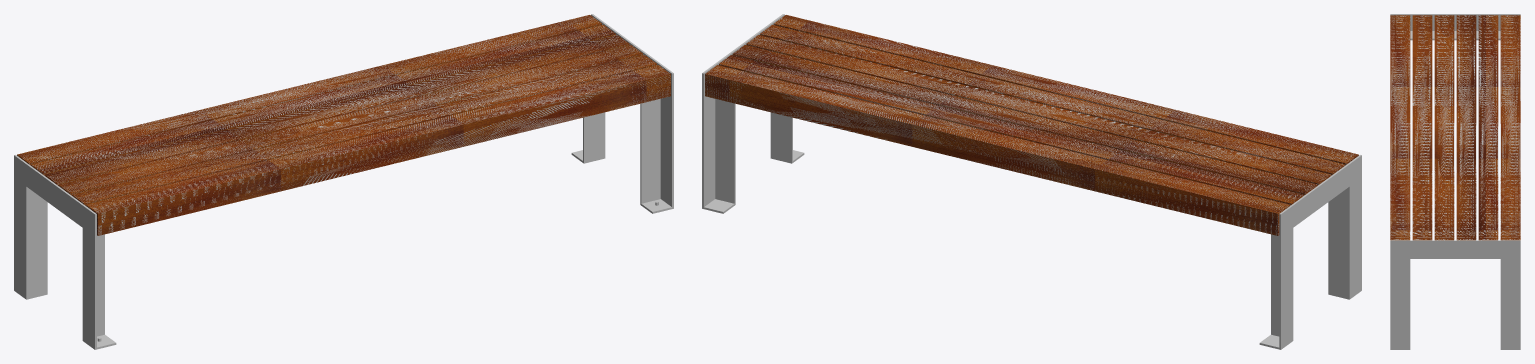
3 renders of one model, left to right at view 1: azimuth 30°, elevation 25°; view 2: azimuth 150°, elevation 25°; view 3: azimuth 270°, elevation 25°, orthographic. The views are drawn at different scales.
Parts seen in each view (by area): view 1: mesh4_mesh4-geometry, mesh9_mesh9-geometry, mesh3_mesh3-geometry, mesh8_mesh8-geometry, mesh5_mesh5-geometry, mesh1_mesh1-geometry, mesh6_mesh6-geometry, mesh11_mesh11-geometry; view 2: mesh8_mesh8-geometry, mesh9_mesh9-geometry, mesh4_mesh4-geometry, mesh1_mesh1-geometry, mesh6_mesh6-geometry, mesh3_mesh3-geometry, mesh5_mesh5-geometry, mesh11_mesh11-geometry; view 3: mesh11_mesh11-geometry, mesh4_mesh4-geometry, mesh8_mesh8-geometry, mesh1_mesh1-geometry, mesh3_mesh3-geometry, mesh5_mesh5-geometry, mesh6_mesh6-geometry, mesh9_mesh9-geometry.
Boxes of the visible parts, x1,y1,x2,y2 form: mesh4_mesh4-geometry: (85,65,670,235); mesh9_mesh9-geometry: (14,155,116,349); mesh3_mesh3-geometry: (44,35,629,185); mesh8_mesh8-geometry: (17,15,602,165); mesh5_mesh5-geometry: (31,25,615,175); mesh1_mesh1-geometry: (58,45,643,195); mesh6_mesh6-geometry: (72,55,656,205); mesh11_mesh11-geometry: (571,14,673,213); mesh8_mesh8-geometry: (705,65,1290,235); mesh9_mesh9-geometry: (1259,155,1361,349); mesh4_mesh4-geometry: (773,15,1358,165); mesh1_mesh1-geometry: (746,35,1331,185); mesh6_mesh6-geometry: (760,25,1344,175); mesh3_mesh3-geometry: (732,45,1317,195); mesh5_mesh5-geometry: (719,55,1303,205); mesh11_mesh11-geometry: (702,14,804,213); mesh11_mesh11-geometry: (1390,240,1520,349); mesh4_mesh4-geometry: (1390,15,1410,240); mesh8_mesh8-geometry: (1500,15,1520,240); mesh1_mesh1-geometry: (1434,15,1454,240); mesh3_mesh3-geometry: (1456,15,1476,240); mesh5_mesh5-geometry: (1478,15,1498,240); mesh6_mesh6-geometry: (1412,15,1432,240); mesh9_mesh9-geometry: (1390,14,1520,40).
Size of the model in its own units: 0.9492 by 0.2148 by 0.2298.
